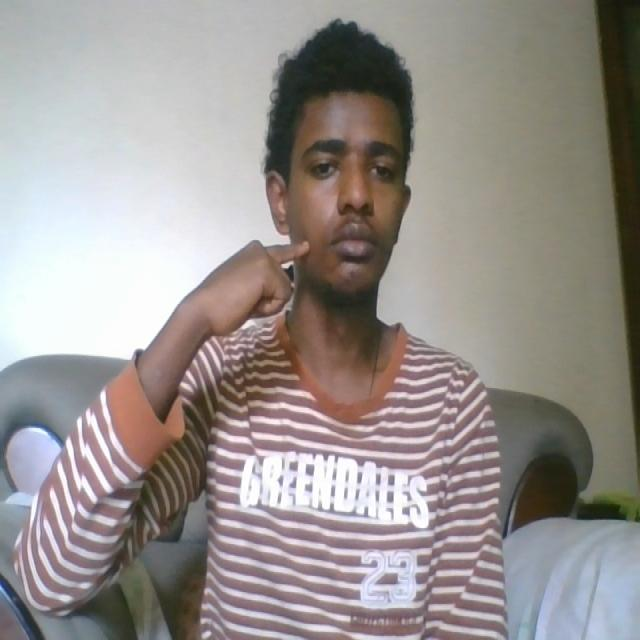enkuan_dehna_metachu: (186, 231, 321, 339)
